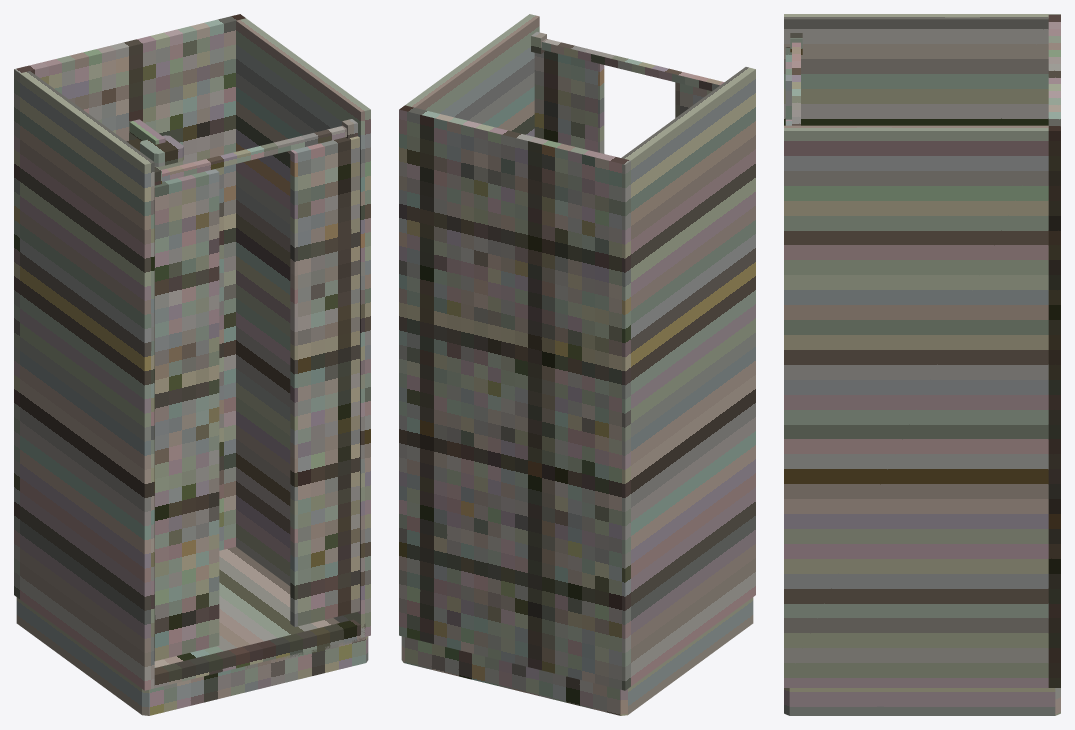
The model's file is Shower.glb.
3 views of the same model, side by side, from view 1: azimuth 30°, elevation 25°; view 2: azimuth 150°, elevation 25°; view 3: azimuth 270°, elevation 25° (orthographic). The views are drawn at different scales.
Visible parts, largest first — view 1: Shower; view 2: Shower; view 3: Shower.
Part boxes in pixels (x1,y1,x2,y2): Shower: (14,14,370,715); Shower: (399,14,755,715); Shower: (784,14,1060,715).
Bounding box in the file's own units: 0.9 × 2.1 × 0.9.
1 material, 1 textured.
